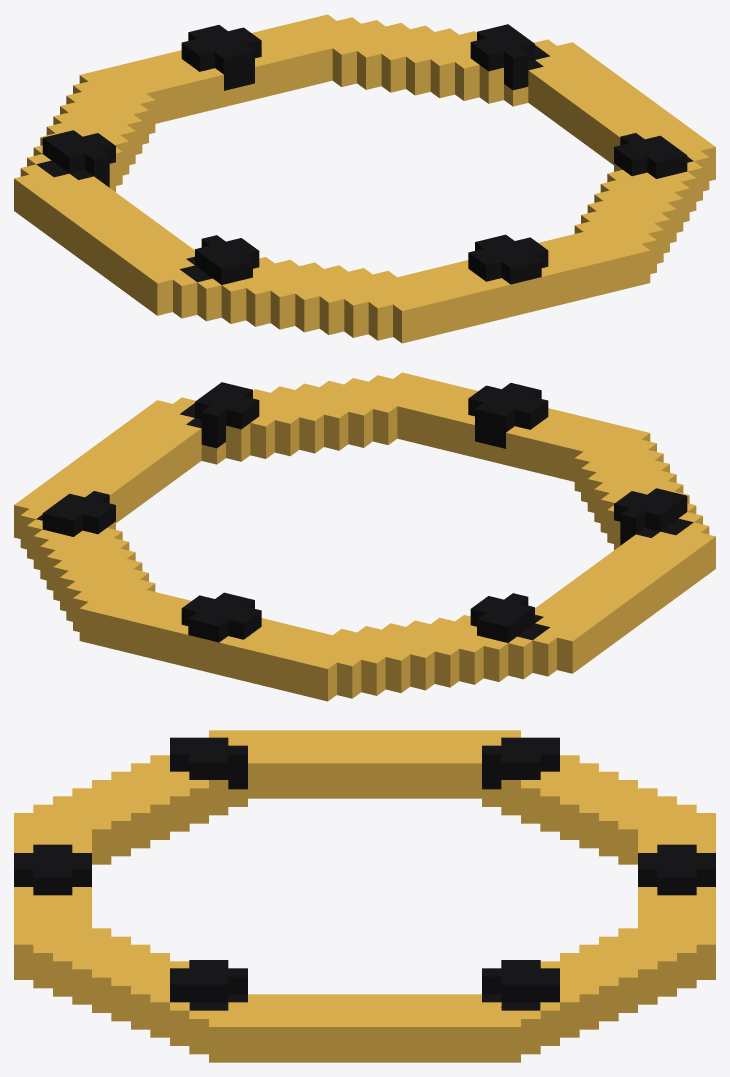
Rendered from onyx_gold_bracelet.glb.
The picture shows the model from 3 angles, top to bottom: view 1: azimuth 30°, elevation 25°; view 2: azimuth 150°, elevation 25°; view 3: azimuth 270°, elevation 25°; orthographic projection. The views are drawn at different scales.
Visible parts, largest first — view 1: onyx_gold_bracelet:compound; view 2: onyx_gold_bracelet:compound; view 3: onyx_gold_bracelet:compound.
Part boxes in pixels (x1=…): onyx_gold_bracelet:compound: x1=14, y1=14, x2=715, y2=343; onyx_gold_bracelet:compound: x1=14, y1=372, x2=715, y2=701; onyx_gold_bracelet:compound: x1=14, y1=730, x2=715, y2=1062.
Bounding box in the file's own units: 0.072 × 0.006 × 0.072.
